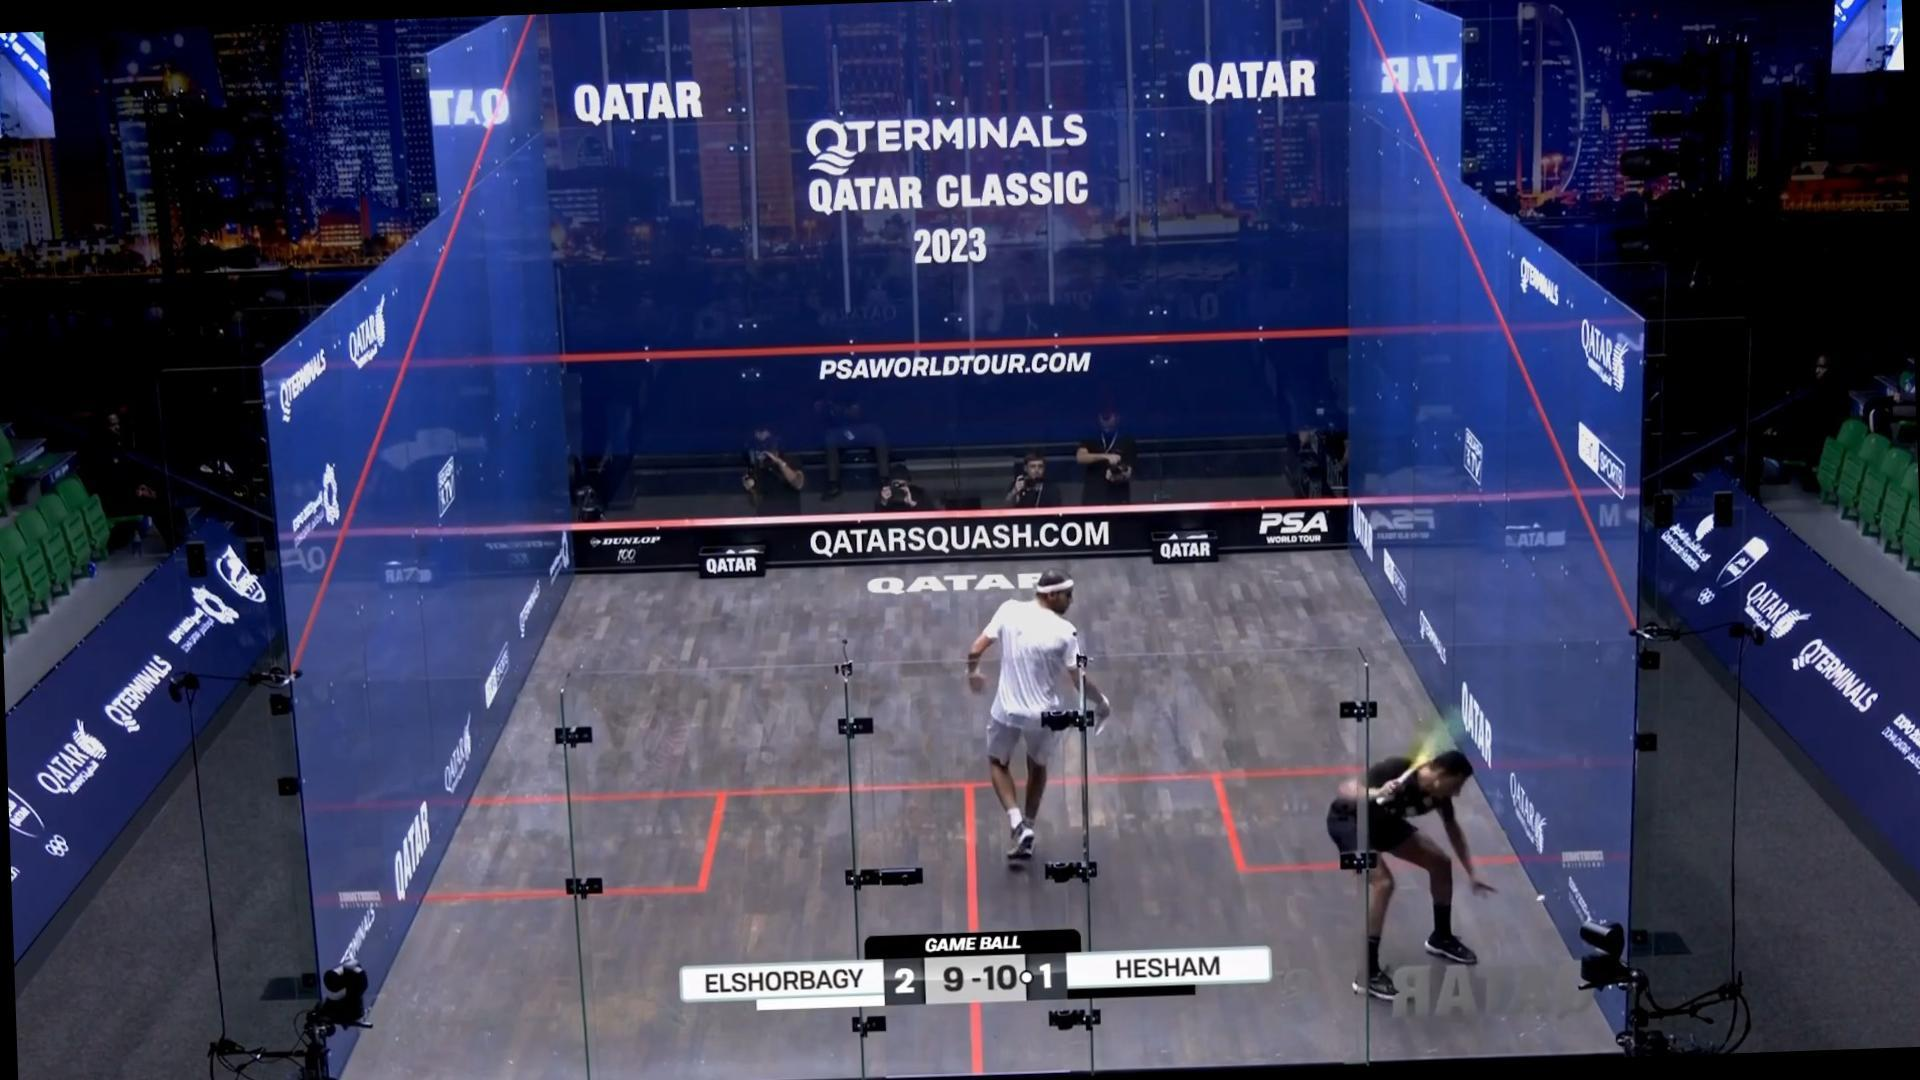Squash-Ball: (1531, 886, 1549, 911)
